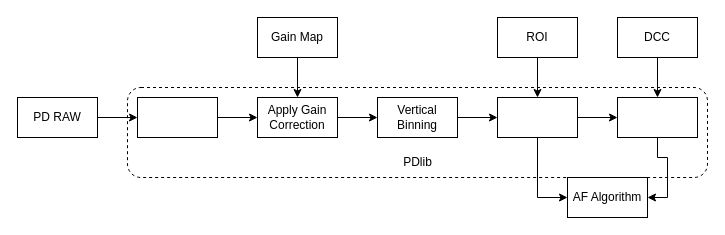
The diagram is 725 pixels wide and 235 high, and some of its shapes have lost their labels. The box of each missing label's shape, as (x1, y1, x2, y2) in pixels:
L and R pixel separation: (136, 96, 218, 138)
phase difference calculation: (496, 96, 578, 138)
phase to Defocus: (616, 96, 698, 138)
